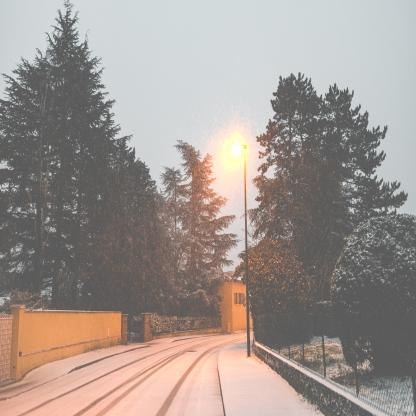light_pole: (232, 143, 251, 357)
